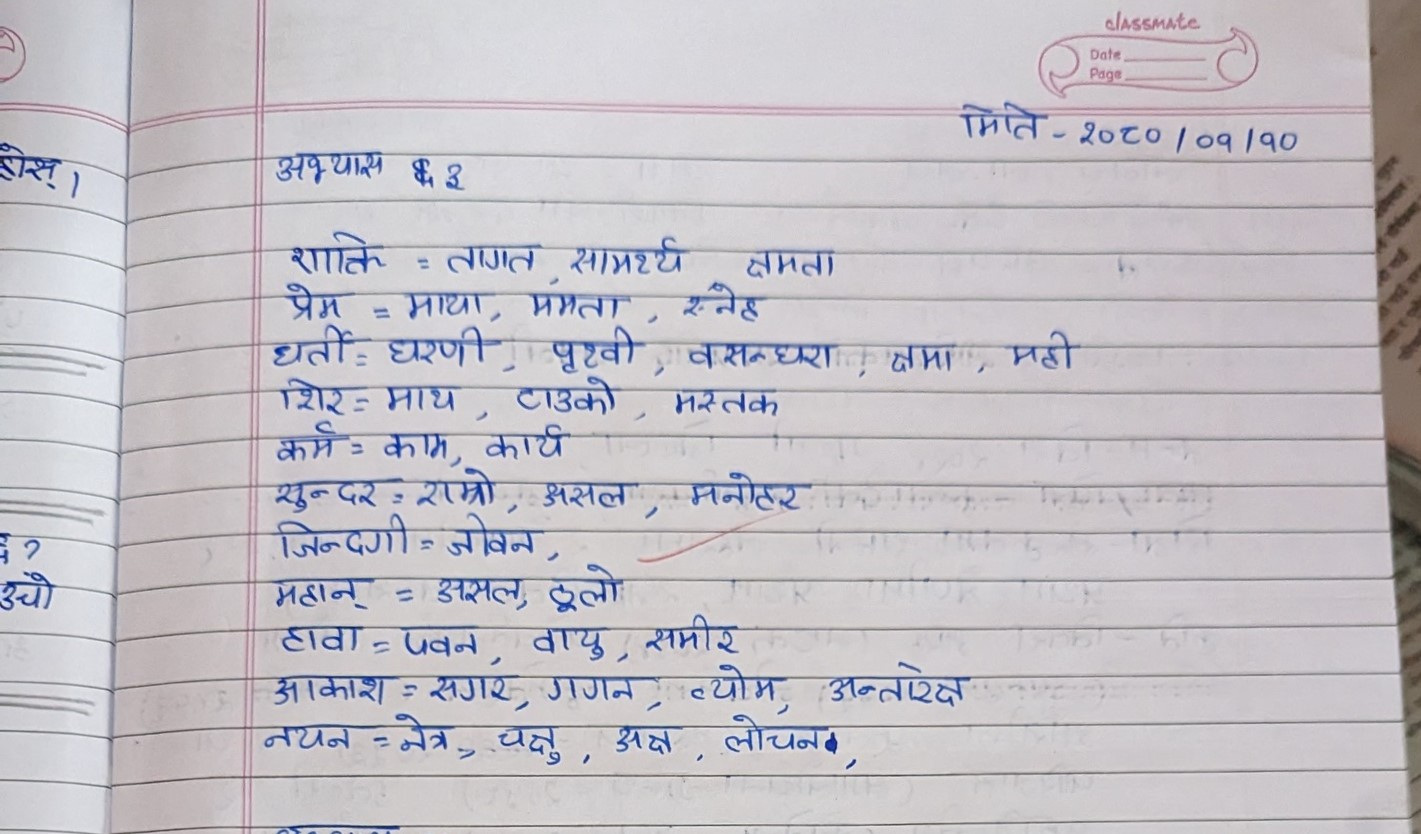text: (812, 654, 971, 707), (265, 512, 412, 560), (948, 87, 1047, 156), (684, 462, 808, 517), (267, 137, 384, 192), (687, 337, 842, 375), (570, 229, 687, 277), (282, 224, 391, 273), (666, 381, 784, 423), (546, 324, 642, 375), (714, 709, 819, 755), (509, 376, 621, 418), (262, 475, 392, 511), (550, 558, 632, 613), (737, 237, 841, 280), (640, 612, 746, 654), (265, 671, 385, 708), (444, 512, 535, 560), (385, 323, 484, 367), (680, 664, 782, 704), (261, 324, 353, 368), (1076, 106, 1167, 150), (537, 666, 645, 702), (414, 466, 500, 511), (390, 612, 482, 654), (255, 720, 359, 756), (377, 377, 468, 418), (530, 621, 616, 663), (399, 283, 487, 324), (375, 424, 458, 467), (442, 234, 540, 270), (483, 422, 578, 459), (272, 620, 362, 659), (260, 575, 371, 606), (682, 281, 763, 323), (524, 286, 624, 320), (432, 572, 525, 607), (495, 718, 565, 764), (539, 474, 631, 508), (280, 275, 347, 321), (426, 672, 514, 707), (277, 376, 351, 417), (268, 419, 342, 460), (1188, 114, 1250, 161), (886, 336, 959, 374), (393, 712, 450, 760), (607, 721, 681, 757), (1257, 108, 1305, 156), (427, 141, 469, 189)
